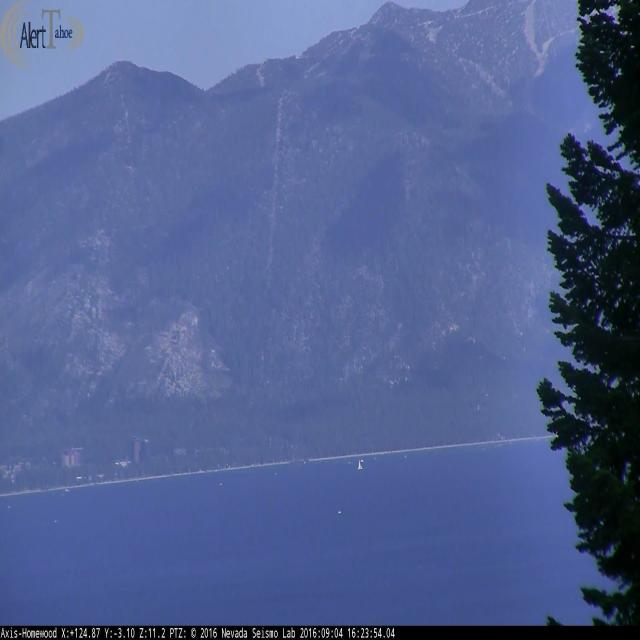smoke: (338, 360, 351, 390)
